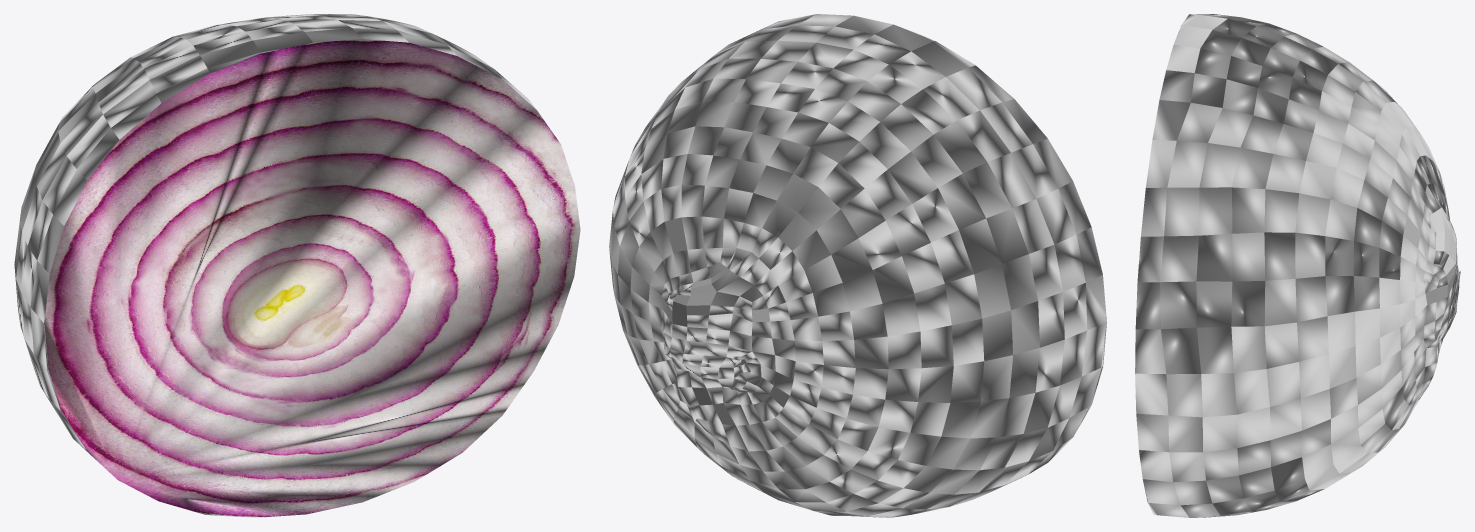
File: half-onion.fbx
3 renders of one model, left to right at view 1: azimuth 30°, elevation 25°; view 2: azimuth 150°, elevation 25°; view 3: azimuth 270°, elevation 25°, orthographic. The views are drawn at different scales.
Parts seen in each view (by area): view 1: Onion_inside, Onion_01; view 2: Onion_01; view 3: Onion_01.
Boxes of the visible parts, x1=… form: Onion_inside: x1=44, y1=39, x2=580, y2=517; Onion_01: x1=14, y1=14, x2=535, y2=476; Onion_01: x1=609, y1=14, x2=1106, y2=517; Onion_01: x1=1135, y1=14, x2=1460, y2=517.
Bounding box in the file's own units: 6.85 × 6.21 × 4.16.
